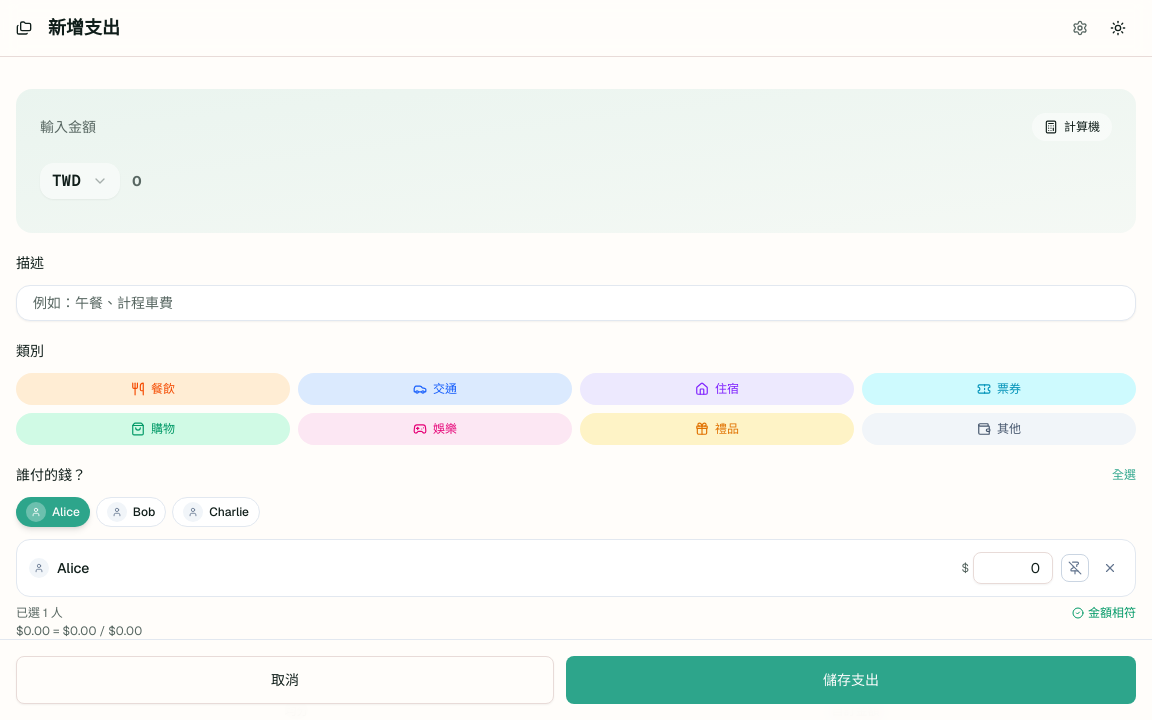
it: ExpenseForm Component › Multi-payer › clearing a pin restores the equal split
Type "300" into the number field with placeholder "0".
click(622, 181); type("300")  # box [132,153,1112,209]
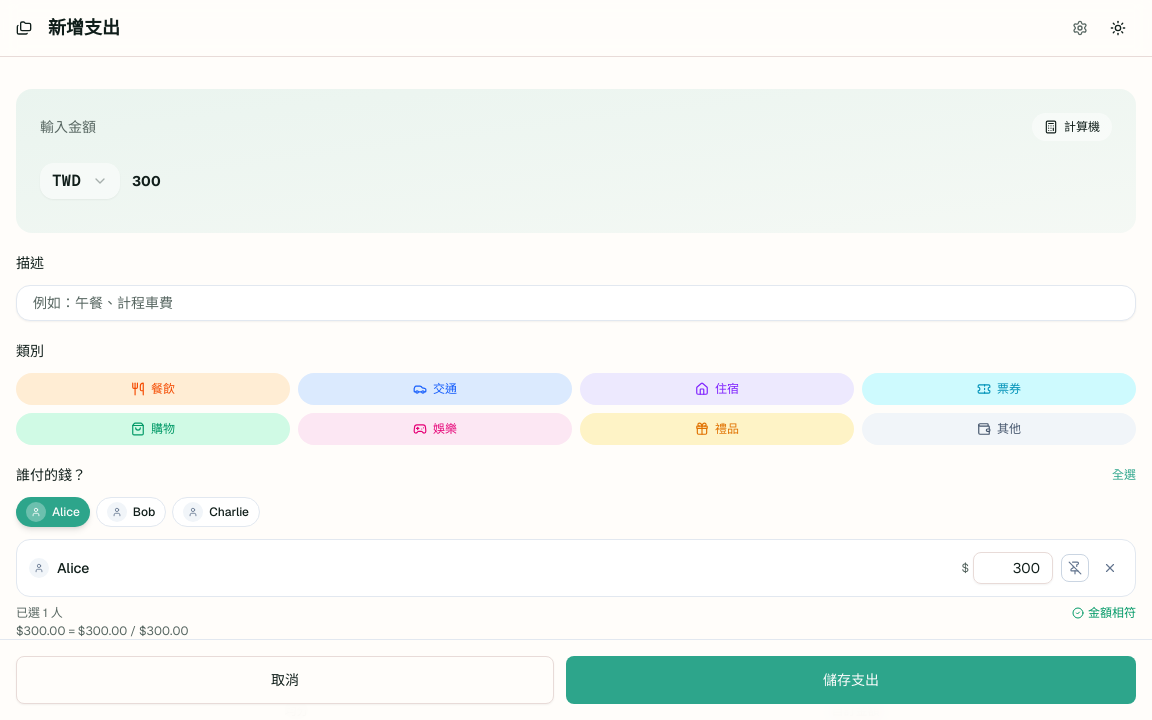
Click the button "全選".
click(1124, 475)  # box [1112,467,1136,483]
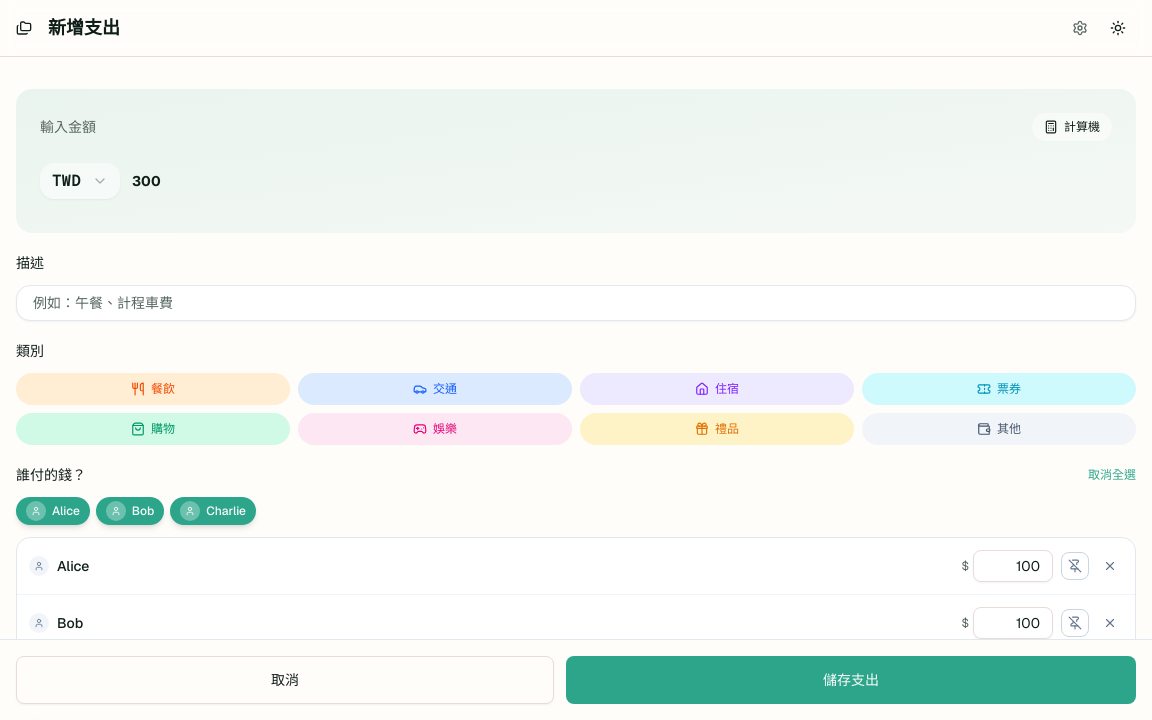
Replace the text in the field named "Bob的付款金額" with "120" at [1013, 623], box [973,607,1053,639]
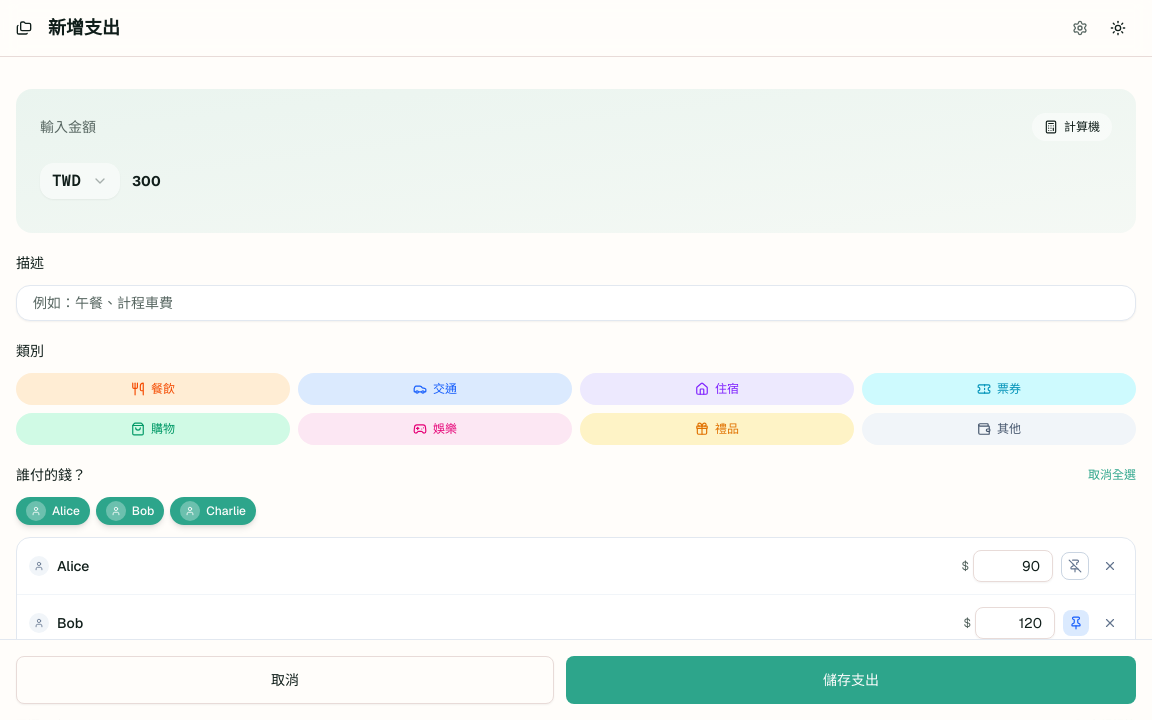
expect the number of buttons titled "還原均分" is 1: met
Click the button named "Bob的付款金額已自訂，點擊還原均分".
click(1076, 623)  # box [1063,610,1089,636]
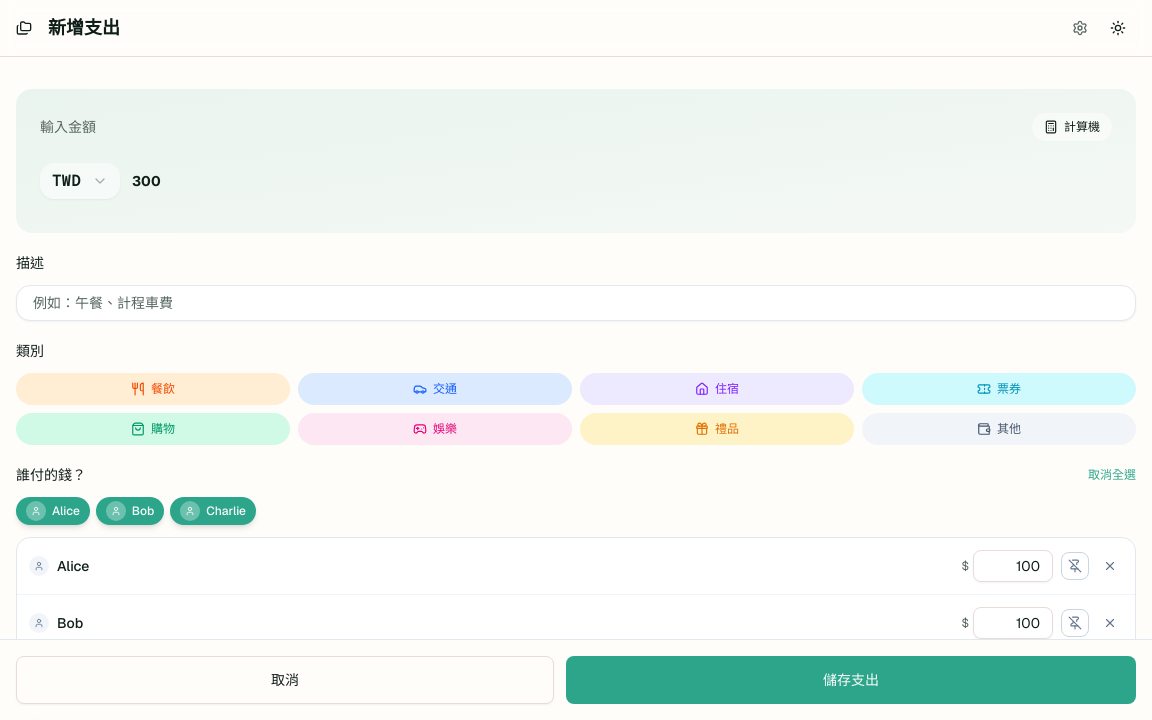
expect the field named "Bob的付款金額" holds "100": met, box [973,607,1053,639]
